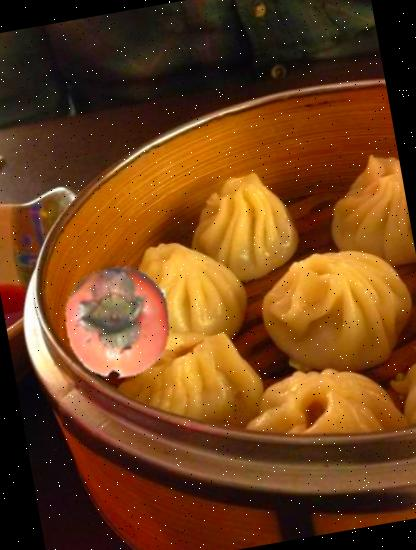Kaki: (52, 256, 185, 390)
